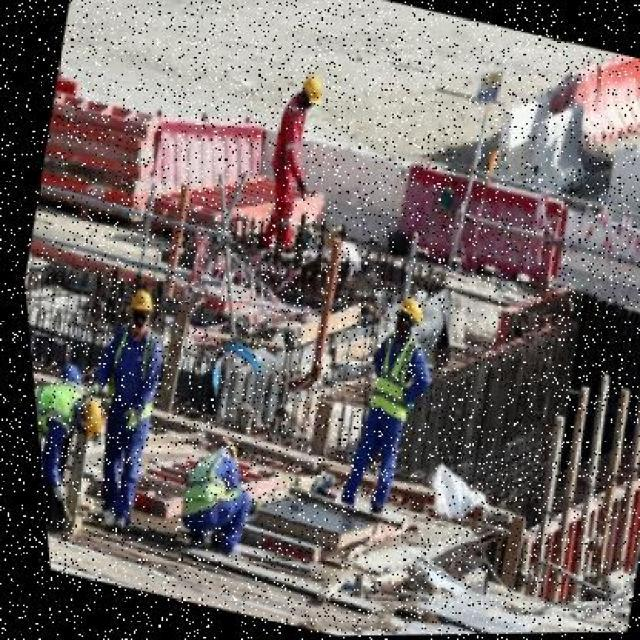helmet: (115, 285, 153, 327)
vest: (352, 331, 417, 423), (26, 376, 78, 458)
